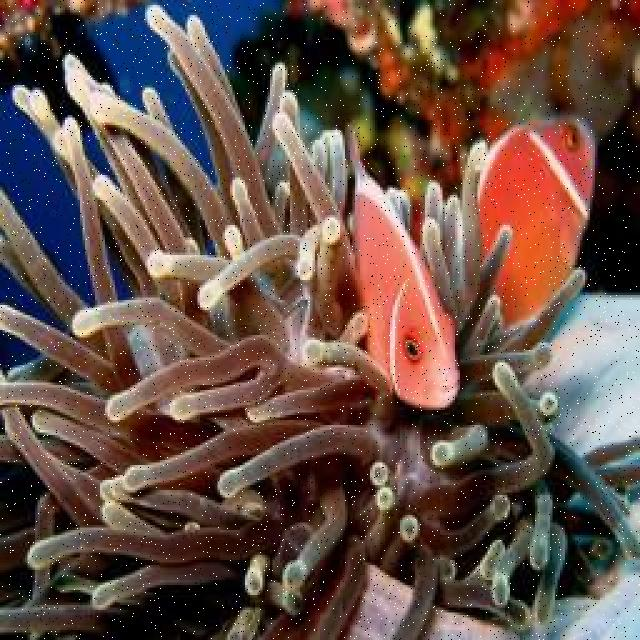fish: (347, 122, 459, 408), (476, 116, 597, 326)
reefs: (0, 3, 638, 638)
